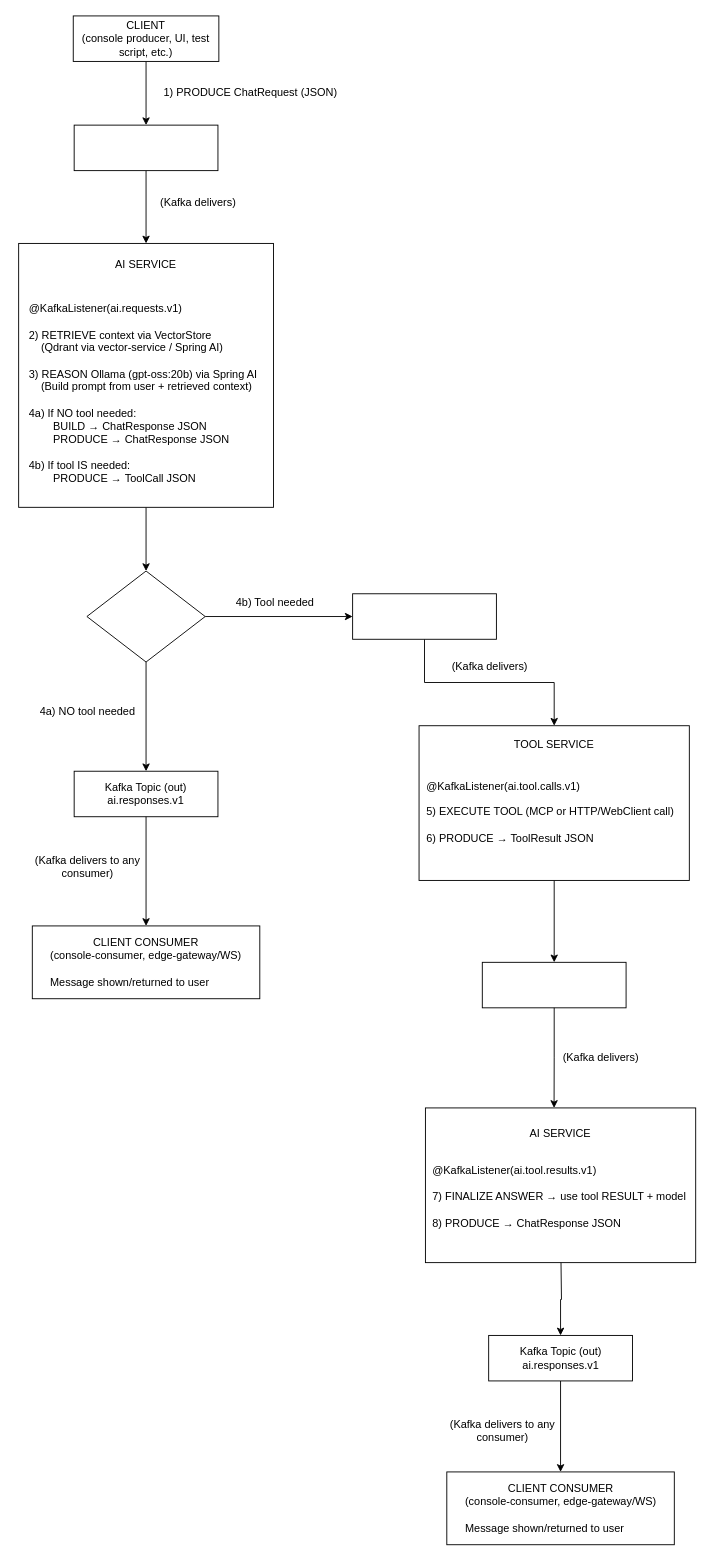
Some shapes in this 712 by 1561 pixel diagram are drawn without their labels. Each missing label, with the centre of its shape:
"Does the model request a tool?" belongs at pixel 145 616.
"Kafka Topic (in) ai.request.v1" belongs at pixel 145 147.
"Kafka Topic (tool results) ai.tool.results.v1" belongs at pixel 553 984.
"Kafka Topic (tools) ai.tool.calls.v1" belongs at pixel 424 616.
